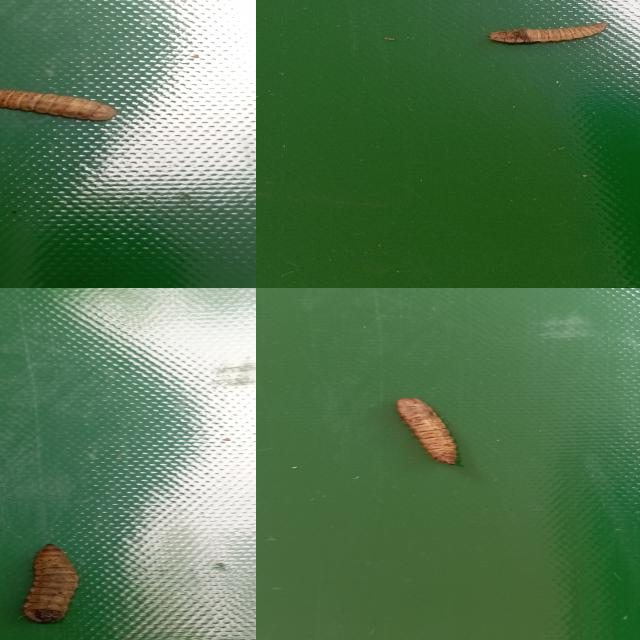Maggot: (20, 546, 79, 627), (395, 398, 461, 468), (0, 90, 118, 125), (487, 24, 608, 47)
